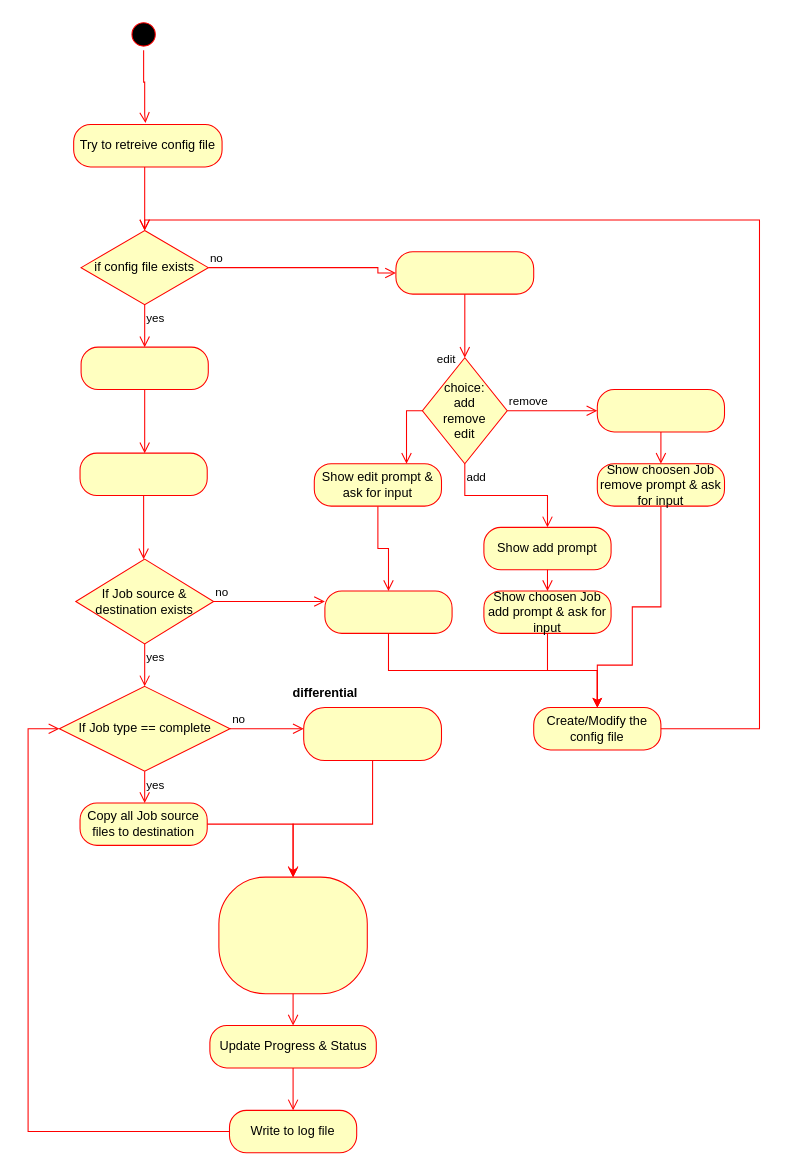
Some shapes in this 789 by 1171 pixel diagram are drawn without their labels. Here are the shapes that lost their labels. From the top down, the centre of each, then its label:
(464,272): Show Job Management Prompt & ask for input
(144,368): Read config file
(660,410): Show remove prompt
(143,474): Retreive Jobs
(388,611): Show choosen Job edit prompt & ask for input
(372,733): Copy all modified Job source files to destination
(292,935): Retreive files infos: - tfsl - tftc - tfs - tt - ..
